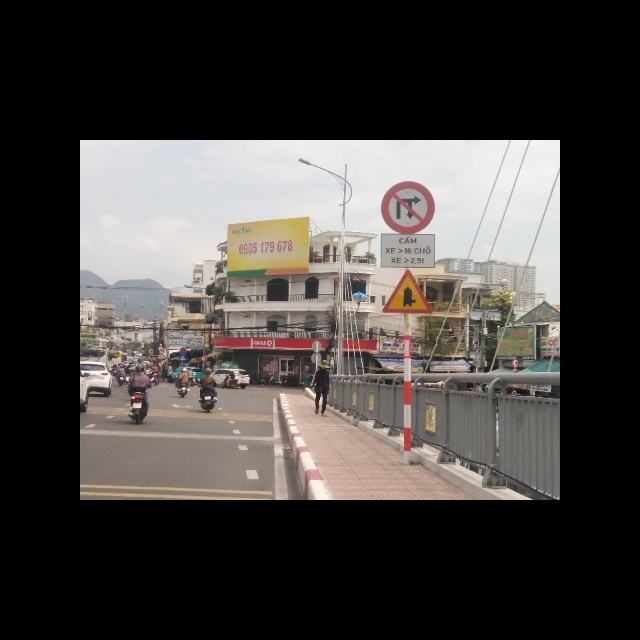Cấm quay đầu và rẽ phải: (381, 181, 433, 235)
Giao nhau với đường không ưu tiên: (382, 271, 432, 316)
